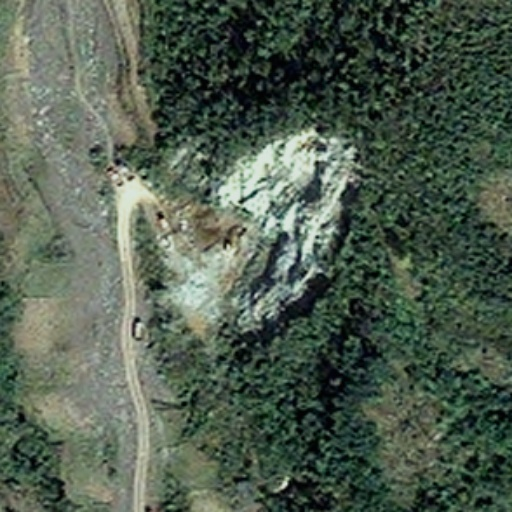landslide: (167, 127, 359, 335)
